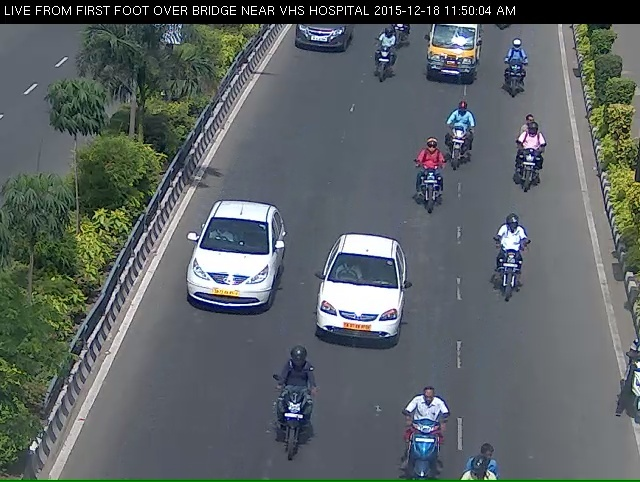Auto: (423, 22, 480, 86)
Car: (182, 224, 271, 340), (314, 257, 399, 370), (287, 21, 351, 63)
Person: (272, 378, 308, 478), (401, 415, 451, 475), (512, 125, 545, 200), (496, 236, 526, 305), (440, 117, 470, 178), (417, 160, 443, 224), (501, 48, 530, 103)
